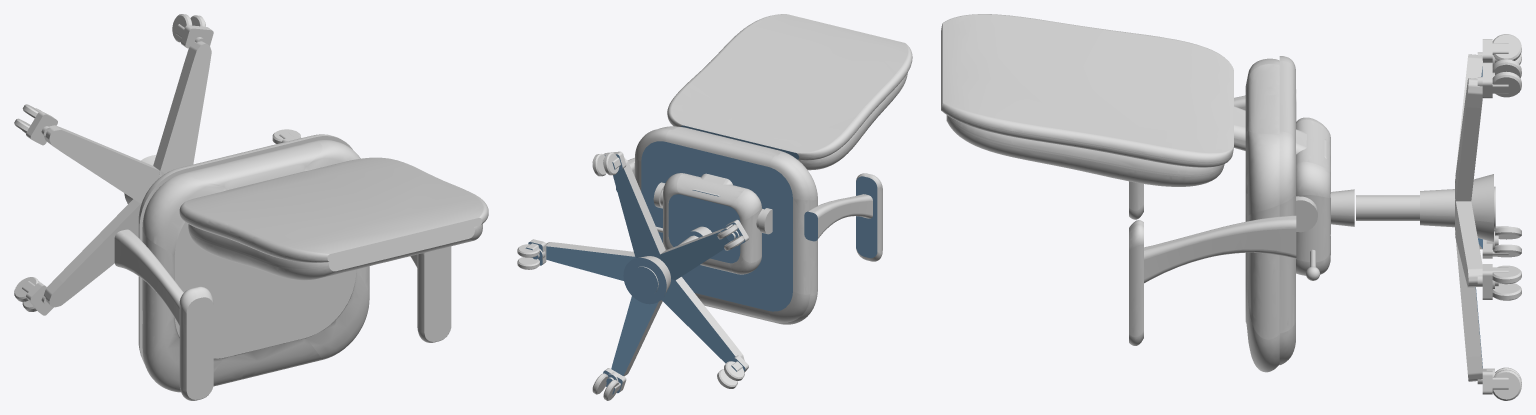
The model's file is office-chair.glb.
3 views of the same model, side by side, from view 1: azimuth 30°, elevation 25°; view 2: azimuth 150°, elevation 25°; view 3: azimuth 270°, elevation 25° (orthographic). The views are drawn at different scales.
Visible parts, largest first — view 1: geometry_0; view 2: geometry_0; view 3: geometry_0.
Part boxes in pixels (x1,y1,x2,y2): geometry_0: [14, 14, 488, 400]; geometry_0: [517, 14, 912, 400]; geometry_0: [941, 14, 1521, 400].
Size of the model in its own units: 655 by 677 by 1051.
